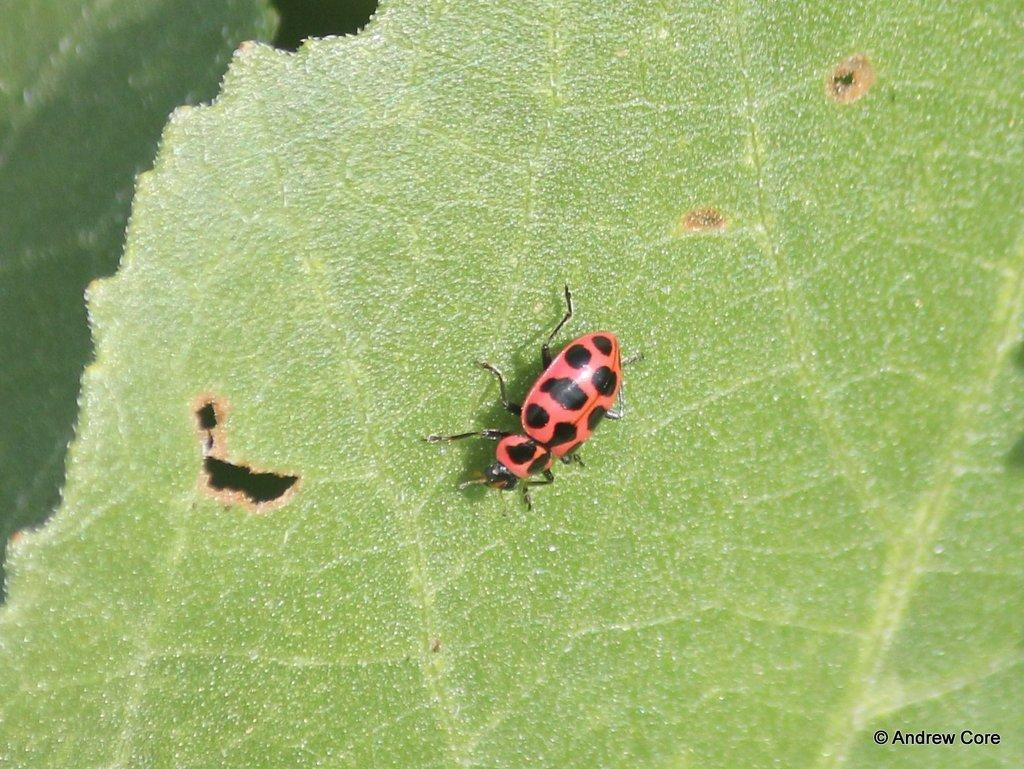ladybug: (419, 277, 647, 515)
